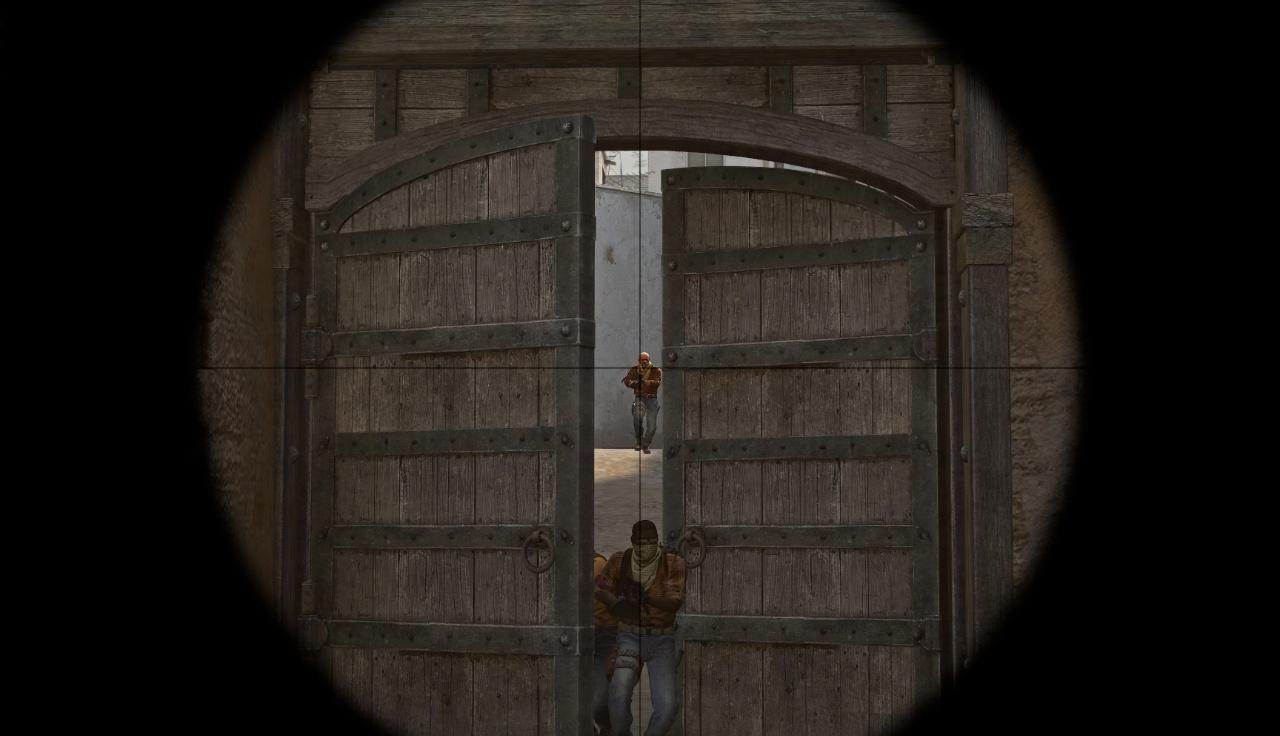tt: (599, 520, 687, 736), (623, 353, 661, 454)
tthead: (632, 522, 658, 560), (639, 352, 651, 368)
